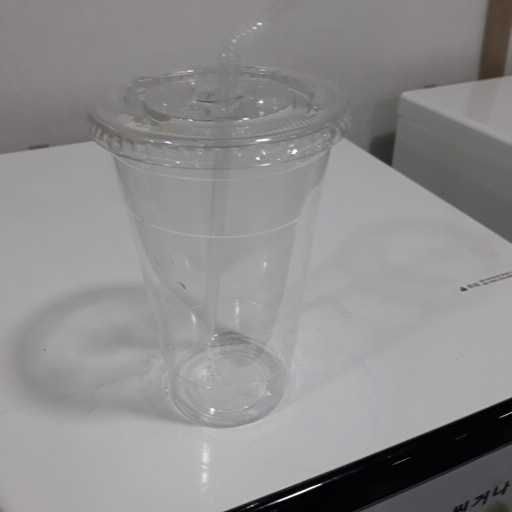Plastic_2: (87, 49, 349, 428)
